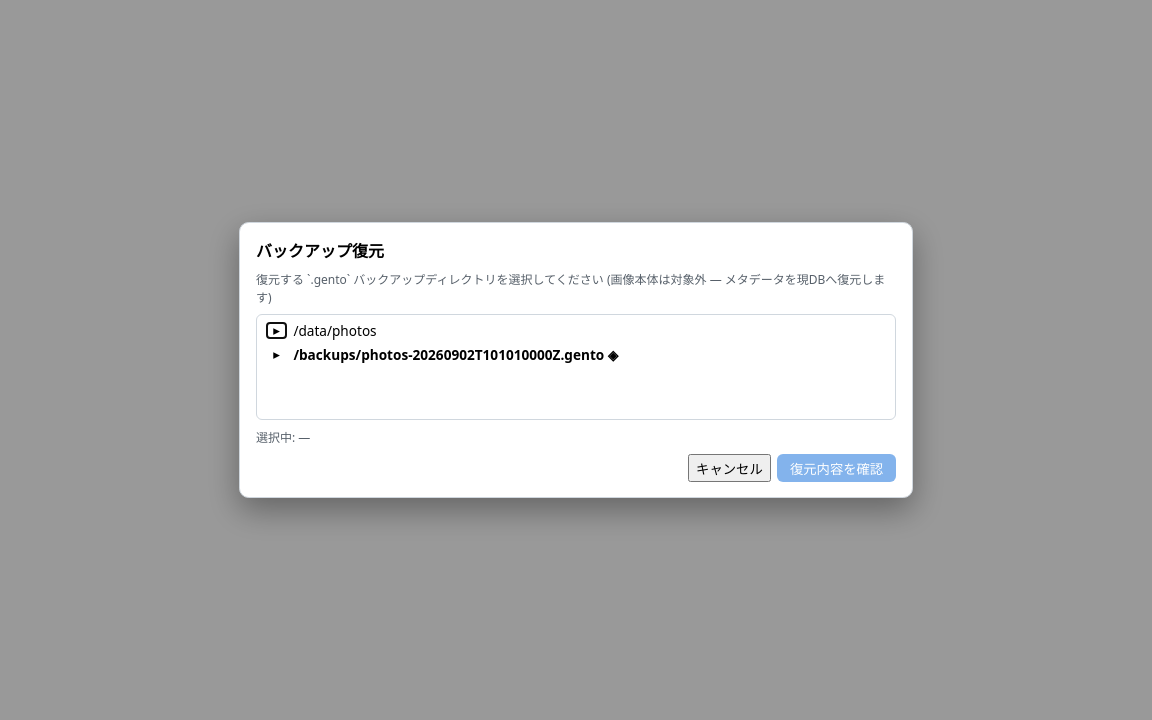
Test: RestoreDialog (コンポーネント描画) › plan取得がエラーならエラー表示して実行へ進めない
Step 1. Click the button with class "node-gento" → (590, 354), box x1=289 y1=342 x2=891 y2=366
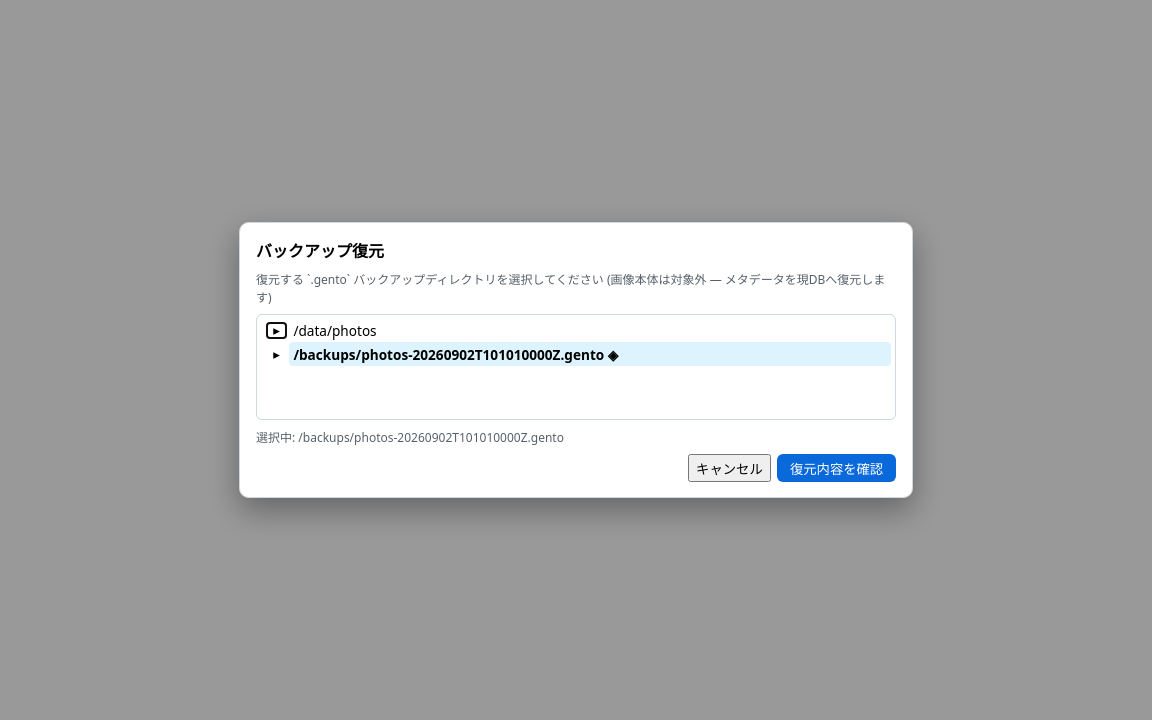
Check: the text with test id "restore-selected" shows "/backups/photos-20260902T101010000Z.gento", box x1=256 y1=429 x2=564 y2=446
Step 2. Click the button with test id "restore-plan" → (837, 468), box x1=777 y1=454 x2=896 y2=482
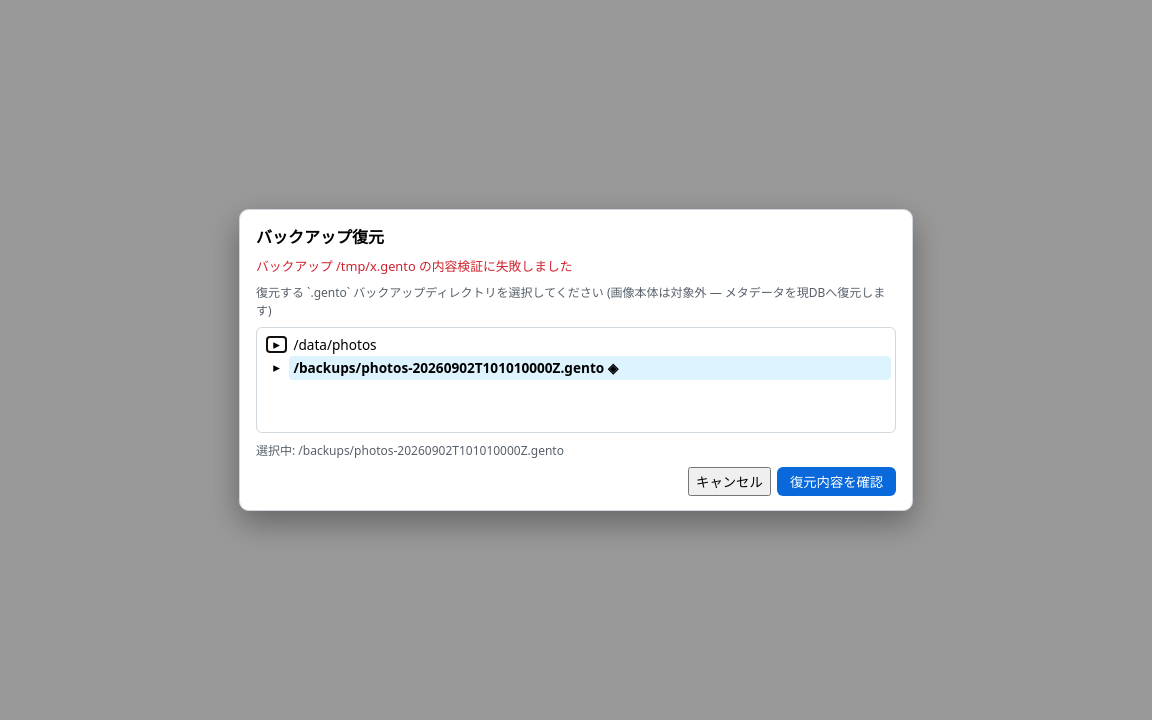
Check: the message with test id "restore-error" shows "内容検証に失敗しました", box x1=256 y1=257 x2=572 y2=275
